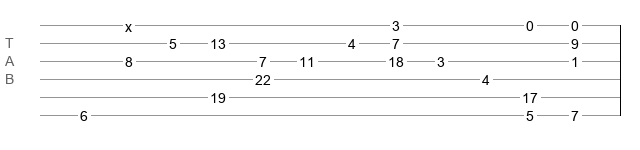0: (526, 18, 534, 28), (571, 18, 579, 28)
1: (571, 54, 579, 64)
11: (299, 54, 315, 64)
13: (210, 36, 226, 46)
17: (522, 90, 538, 100)
18: (388, 54, 404, 64)
19: (210, 90, 226, 100)
22: (255, 72, 271, 82)
3: (392, 18, 400, 28), (437, 54, 445, 64)
4: (348, 36, 356, 46), (482, 72, 490, 82)
5: (169, 36, 177, 46), (526, 108, 534, 118)
6: (80, 108, 88, 118)
7: (259, 54, 267, 64), (392, 36, 400, 46), (571, 108, 579, 118)
8: (125, 54, 133, 64)
9: (571, 36, 579, 46)
x: (125, 19, 132, 27)
